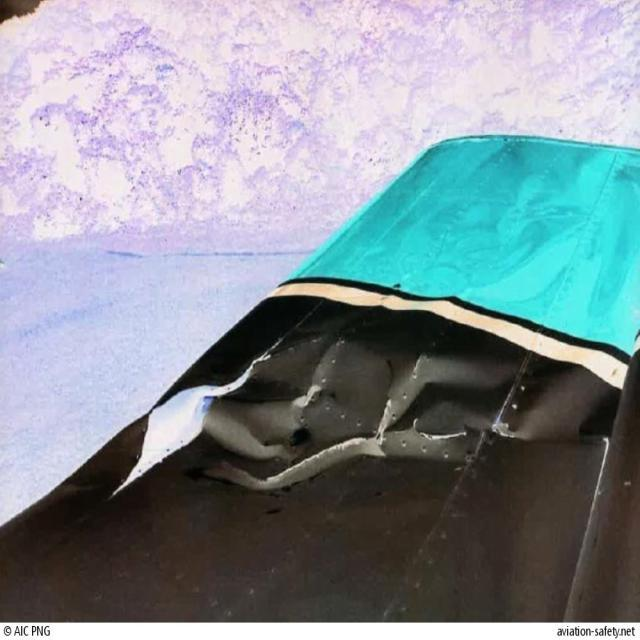crack: (272, 437, 371, 486), (365, 397, 397, 446), (419, 417, 459, 449), (406, 357, 436, 387)
